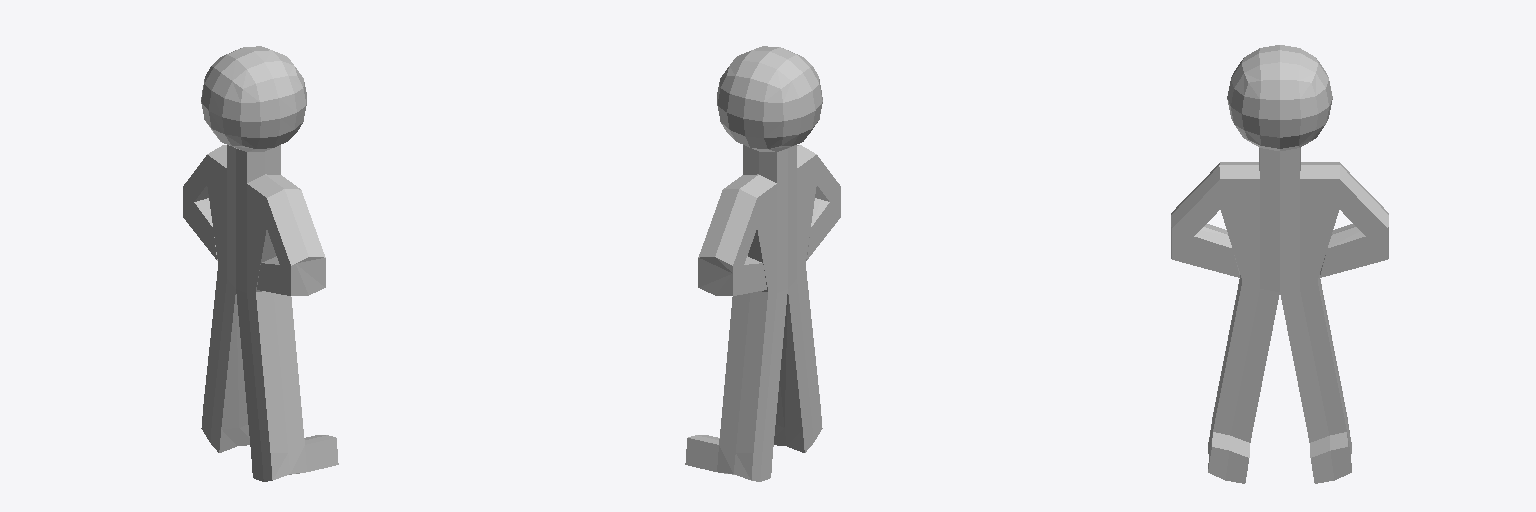
File: lowpoly.obj
3 renders of one model, left to right at view 1: azimuth 30°, elevation 25°; view 2: azimuth 150°, elevation 25°; view 3: azimuth 270°, elevation 25°, orthographic.
Parts seen in each view (by area): view 1: Cube; view 2: Cube; view 3: Cube.
Boxes of the visible parts, x1,y1,x2,y2 form: Cube: [183, 46, 338, 481]; Cube: [685, 46, 840, 481]; Cube: [1171, 45, 1388, 483].
Bounding box in the file's own units: 174 × 719 × 348.